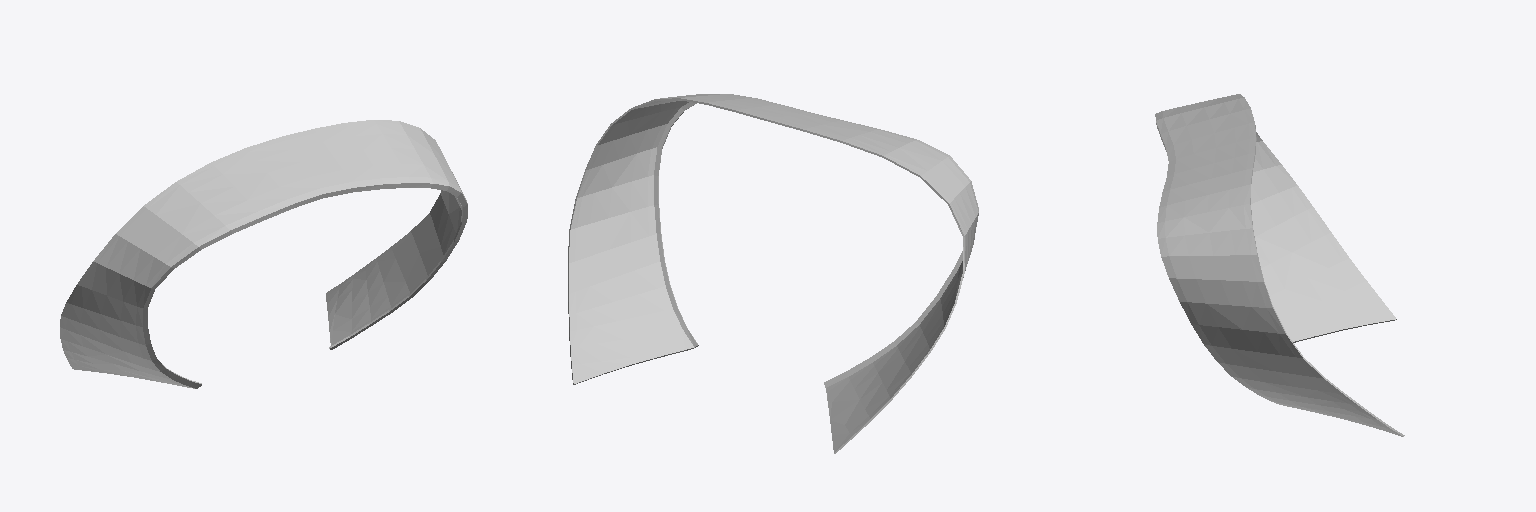
The picture shows the model from 3 angles: view 1: azimuth 30°, elevation 25°; view 2: azimuth 150°, elevation 25°; view 3: azimuth 270°, elevation 25°; orthographic projection.
Visible parts, largest first — view 1: 19__mitre_button_down; view 2: 19__mitre_button_down; view 3: 19__mitre_button_down.
Boxes of the visible parts, box(x1,y1,x2,y2) form: 19__mitre_button_down: box(60, 120, 467, 388); 19__mitre_button_down: box(568, 94, 978, 453); 19__mitre_button_down: box(1155, 94, 1404, 436).
Bounding box in the file's own units: 18 × 11.4 × 10.28.